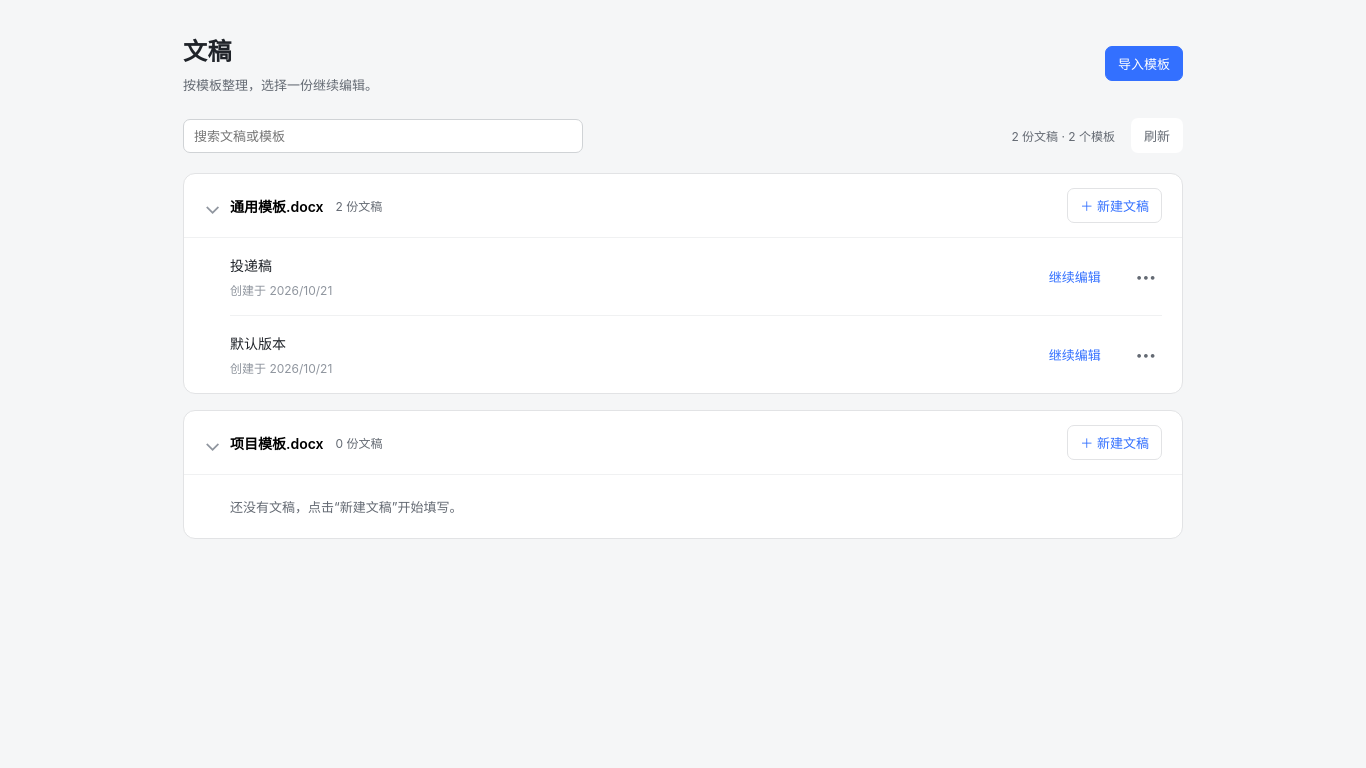
Test case: 文稿分组列表 › 请求中禁止重复创建和取消；失败保留名称及错误供重试
This screenshot has width=1366, height=768.
Step 1. Click the 1st button with class "new-document" → (1115, 206), box [1067, 188, 1162, 223]
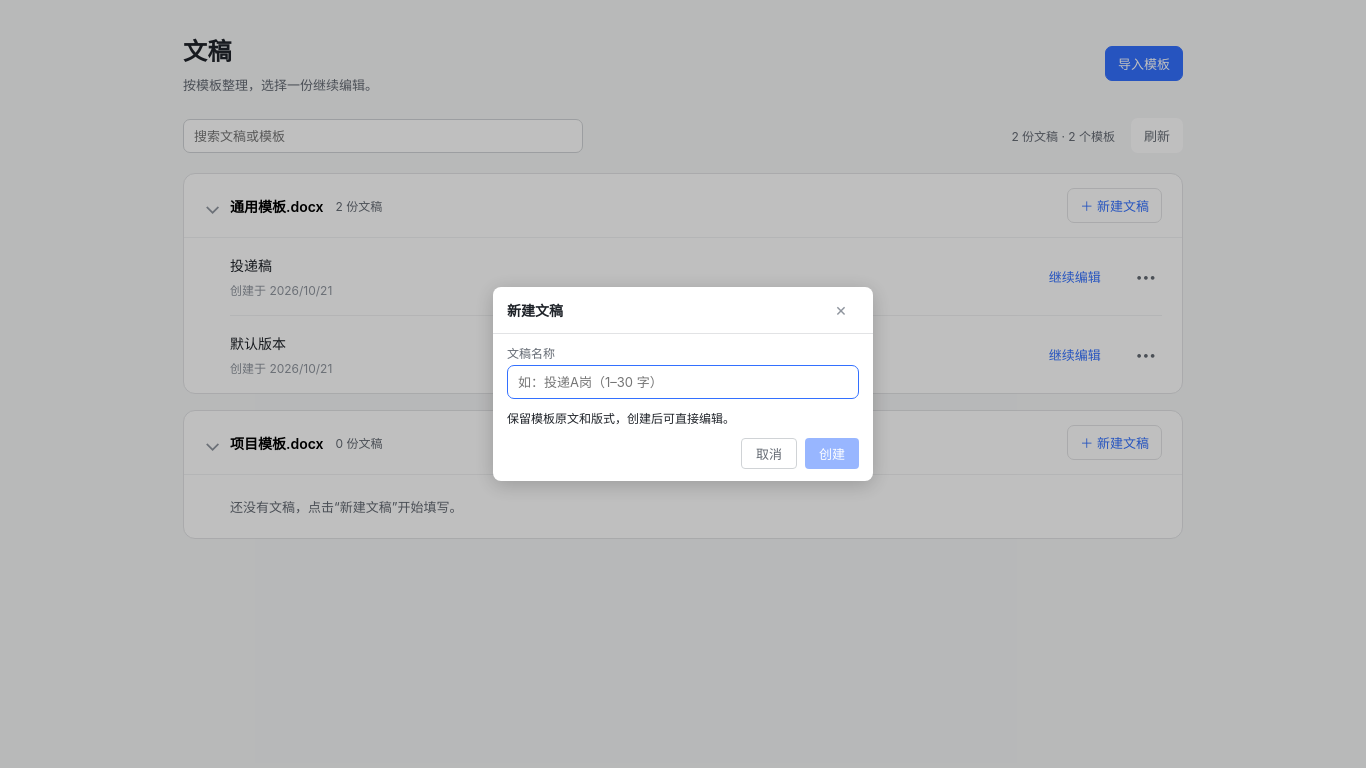
Step 2. Type "保留草稿名" into the field with test id "version-name-input" → (683, 382), box [507, 365, 859, 399]
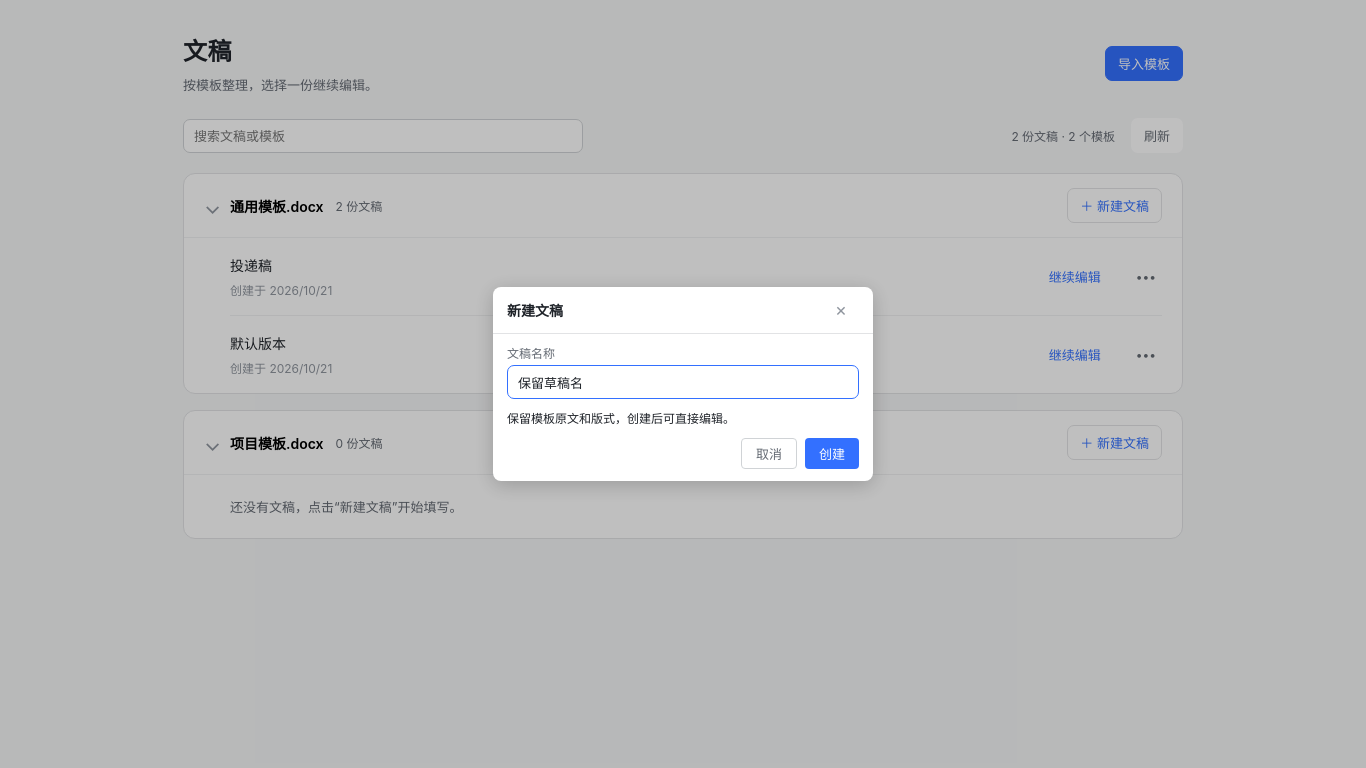
Step 3. Submit the form, box [493, 287, 873, 481]
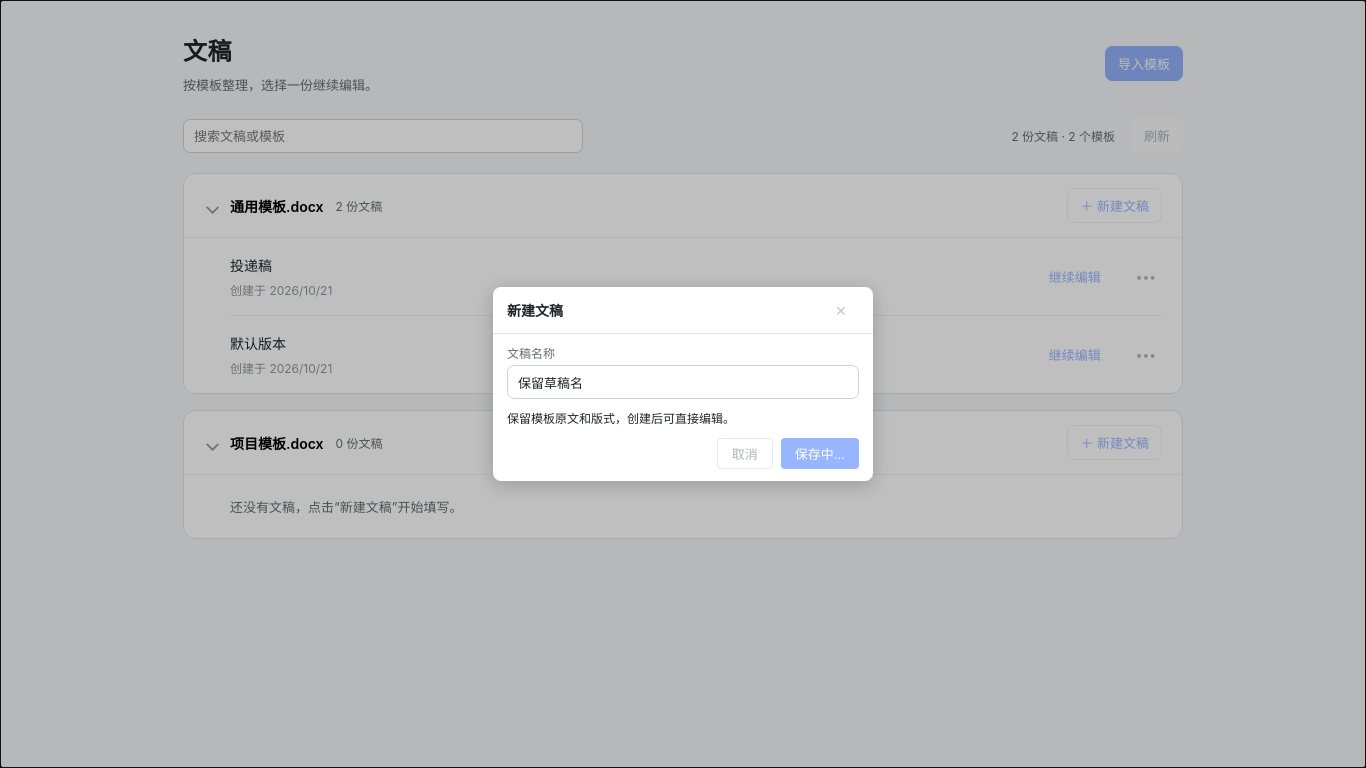
Step 4. Submit the form, box [493, 287, 873, 481]
Step 5. Click the button named "关闭" → (841, 310), box [823, 297, 859, 323]
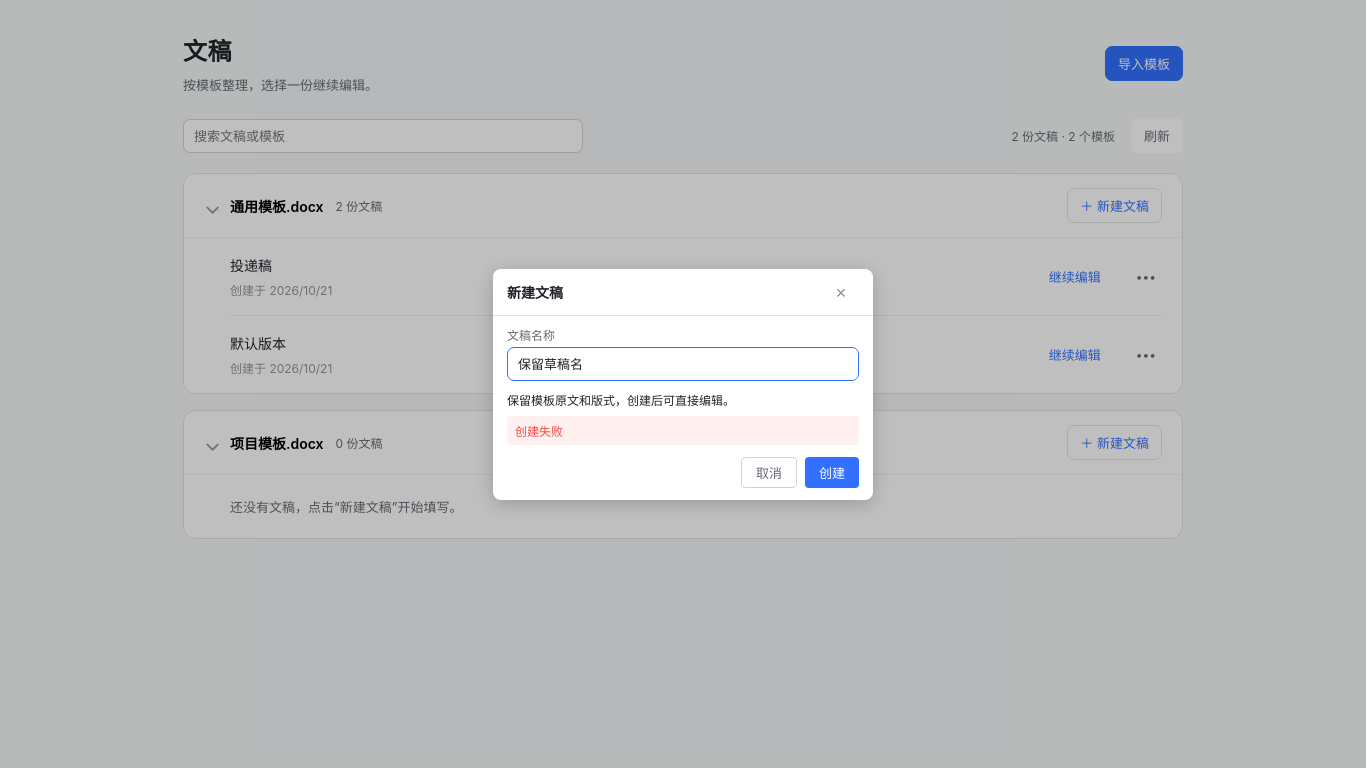
Expected: the dialog is shown
Expected: the message with test id "version-error" reads "创建失败", [515, 424, 563, 438]
